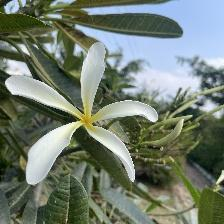champaka: (3, 40, 164, 188)
